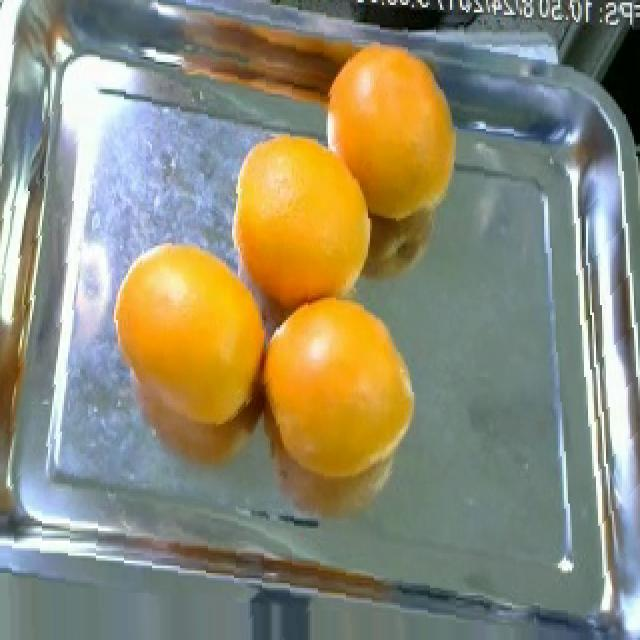Good_Orange: (264, 298, 416, 481), (114, 246, 266, 422), (232, 136, 372, 313), (328, 45, 456, 226)
